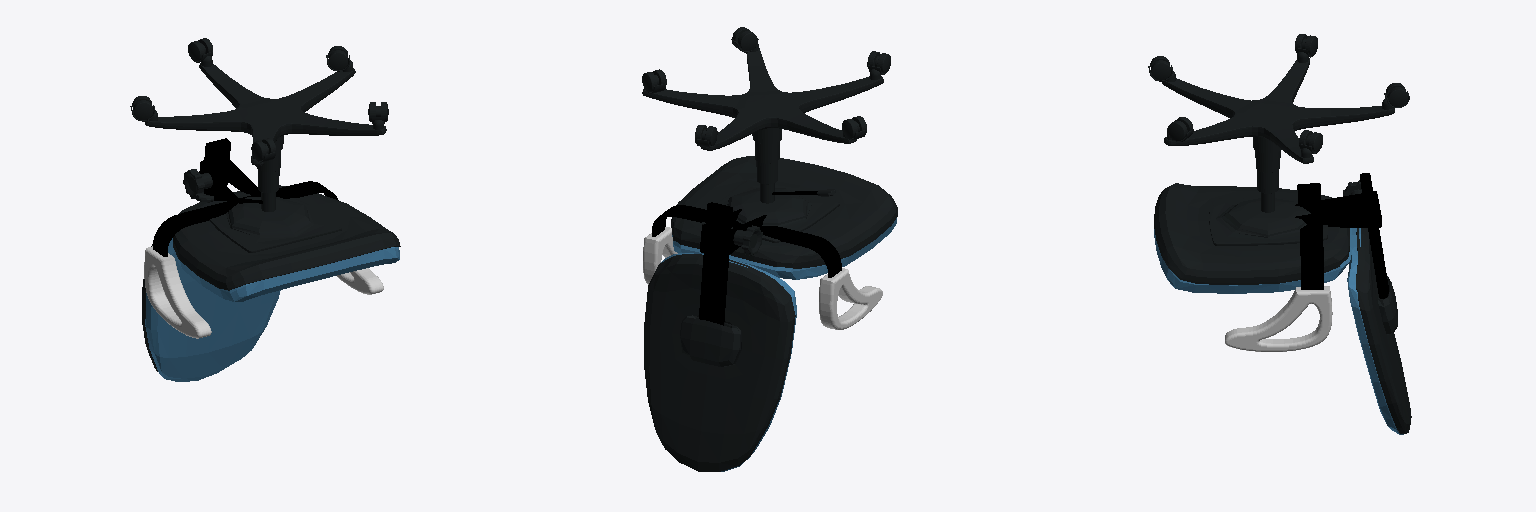
File: Office_chair.obj
3 renders of one model, left to right at view 1: azimuth 30°, elevation 25°; view 2: azimuth 150°, elevation 25°; view 3: azimuth 270°, elevation 25°, orthographic.
Parts seen in each view (by area): view 1: Низ_сидения_2, Cube.001, Cylinder, Низ_сидения_1, Cube_1, Симметрия.1, Выдавливание, Cone, Extrude_NURBS.2, Закругление_1, Стойка_спинки, Шапка_1 (+1 smaller); view 2: Низ_сидения, Низ_сидения_2, Cylinder, Низ_сидения_1, Стойка_спинки, Симметрия.1, Cone, Cube_1, Выдавливание, Extrude_NURBS.2, Закругление_1, Шапка_1 (+2 smaller); view 3: Низ_сидения_2, Cylinder, Низ_сидения, Низ_сидения_1, Extrude_NURBS.2, Симметрия.1, Cube_1, Cube.001, Cone, Закругление_1, Шапка_1, Стойка_спинки (+1 smaller).
Part boxes in pixels (x1,y1,x2,y2): Низ_сидения_2: (173, 185, 400, 290); Cube.001: (145, 238, 280, 381); Cylinder: (144, 63, 386, 165); Низ_сидения_1: (206, 194, 341, 252); Cube_1: (174, 247, 399, 301); Симметрия.1: (153, 181, 338, 256); Выдавливание: (148, 246, 381, 337); Cone: (256, 135, 283, 211); Extrude_NURBS.2: (199, 160, 260, 205); Закругление_1: (144, 248, 383, 338); Стойка_спинки: (204, 138, 230, 196); Шапка_1: (145, 253, 196, 335); Низ_сидения: (644, 254, 795, 471); Низ_сидения_2: (671, 156, 897, 268); Cylinder: (642, 48, 883, 150); Низ_сидения_1: (702, 180, 839, 242); Стойка_спинки: (699, 202, 732, 325); Симметрия.1: (652, 205, 841, 277); Cone: (752, 128, 781, 203); Cube_1: (672, 218, 896, 279); Выдавливание: (645, 227, 875, 328); Extrude_NURBS.2: (700, 209, 766, 257); Закругление_1: (643, 233, 882, 329); Шапка_1: (834, 274, 882, 327); Низ_сидения_2: (1154, 183, 1349, 284); Cylinder: (1162, 58, 1394, 163); Низ_сидения: (1356, 228, 1411, 433); Низ_сидения_1: (1209, 197, 1327, 245); Extrude_NURBS.2: (1295, 191, 1381, 227); Симметрия.1: (1297, 183, 1323, 289); Cube_1: (1154, 228, 1352, 293); Cube.001: (1347, 228, 1403, 434); Cone: (1253, 137, 1281, 212); Закругление_1: (1225, 291, 1332, 351); Шапка_1: (1228, 295, 1328, 349); Стойка_спинки: (1360, 173, 1388, 298).
Bounding box in the file's own units: 0.6495 × 0.9551 × 0.6641.